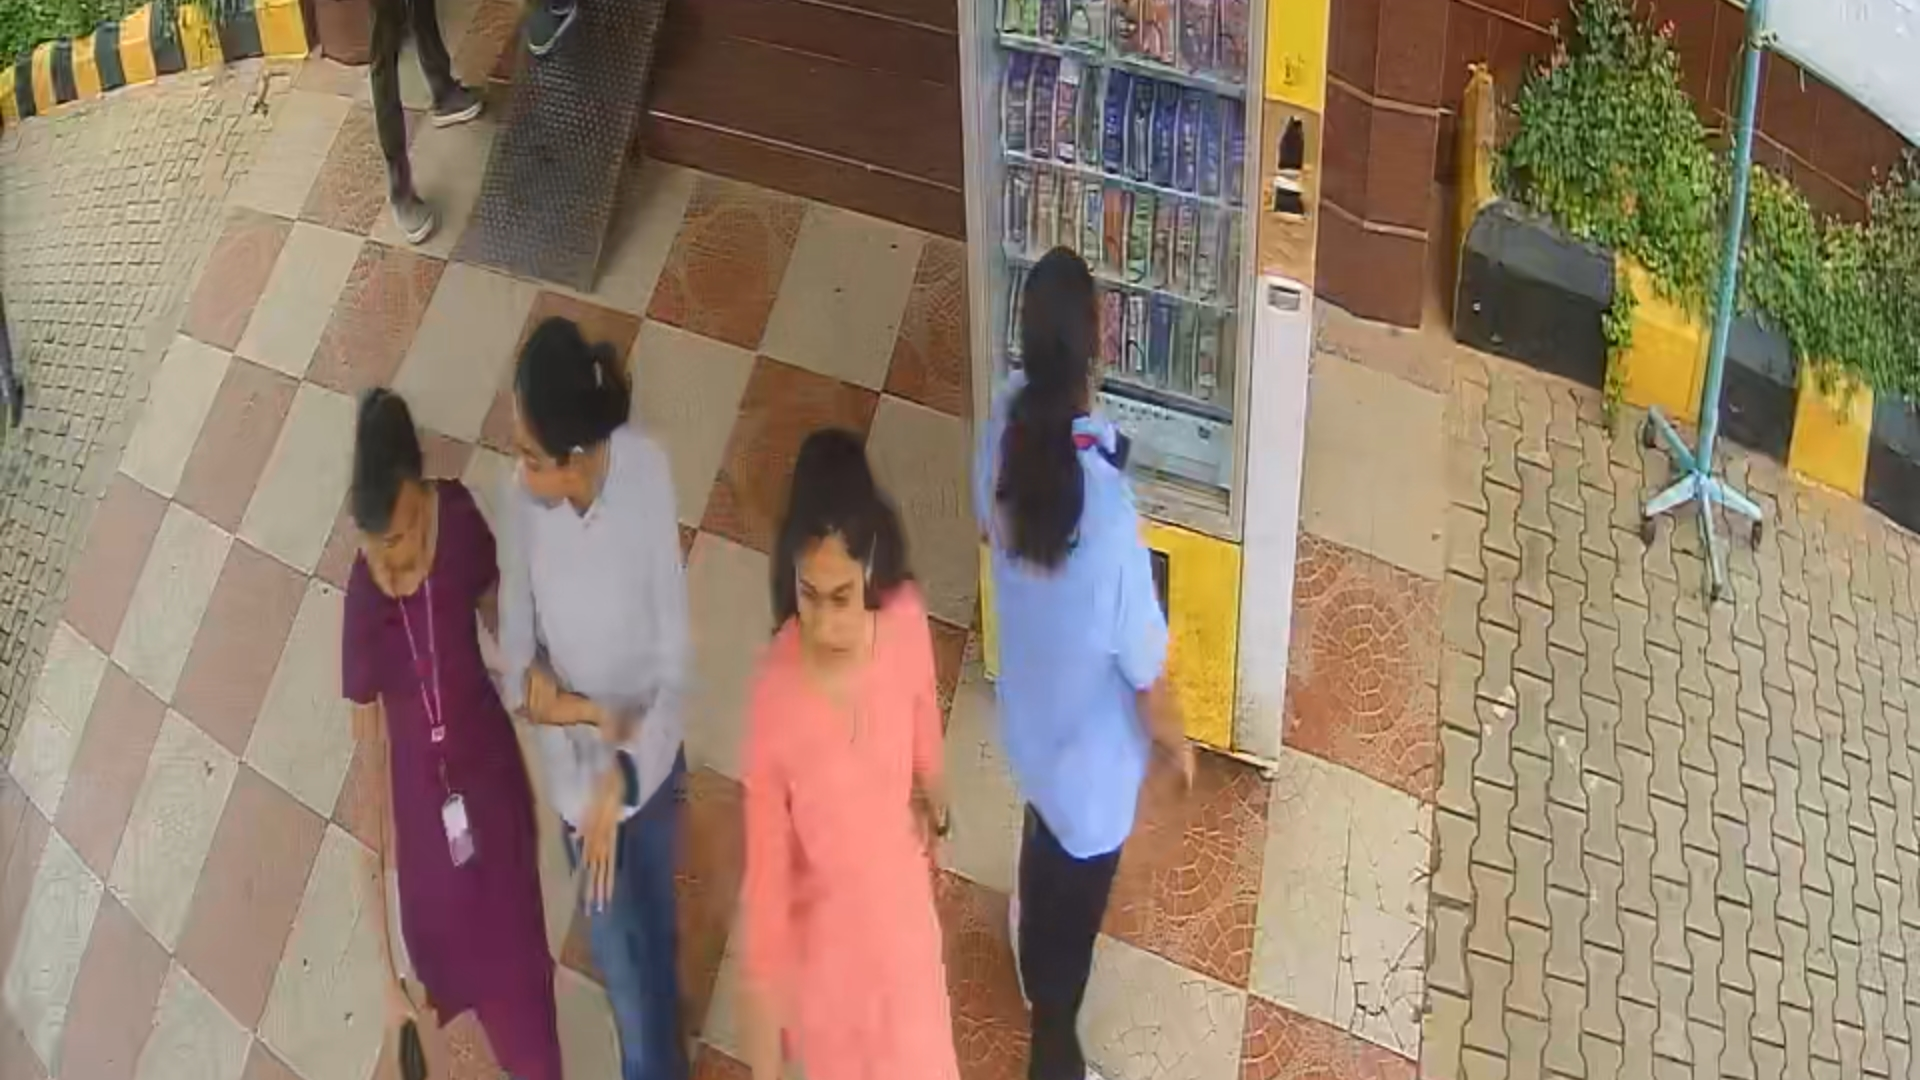intruder: (492, 313, 691, 1080), (746, 404, 960, 1080)
not intruder: (349, 382, 530, 1080)
